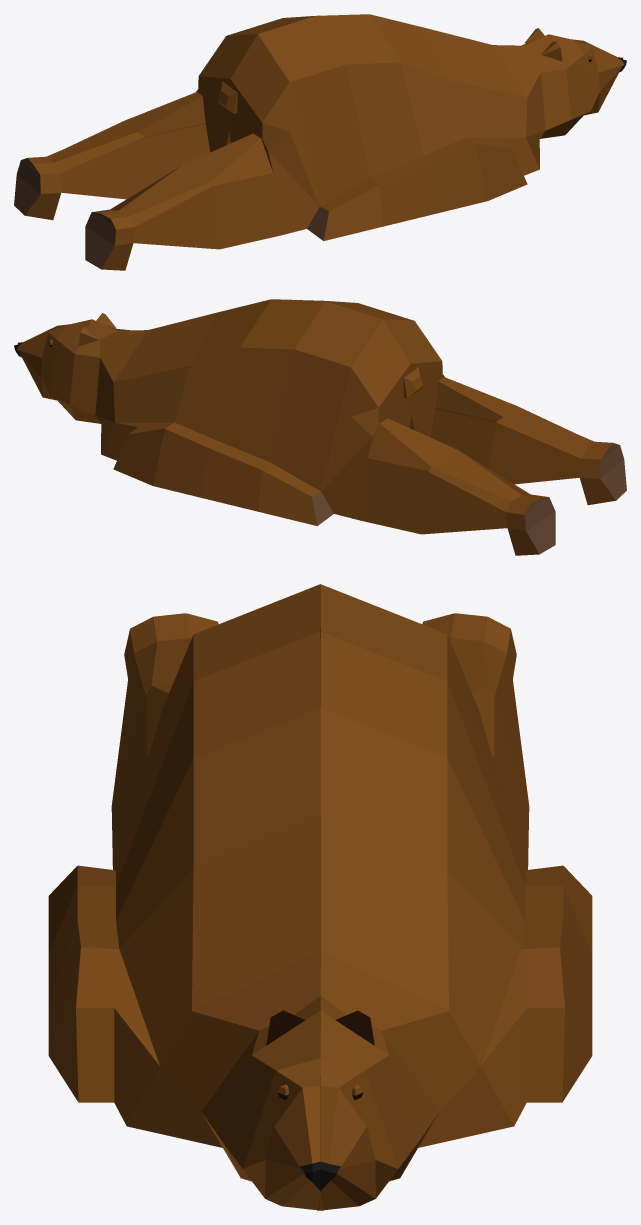
The model's file is bear.glb.
3 views of the same model, one above another, from view 1: azimuth 30°, elevation 25°; view 2: azimuth 150°, elevation 25°; view 3: azimuth 270°, elevation 25° (orthographic). The views are drawn at different scales.
Visible parts, largest first — view 1: Cube; view 2: Cube; view 3: Cube.
Part boxes in pixels (left/top/right/bottom): Cube: left=14, top=14, right=626, bottom=270; Cube: left=14, top=299, right=626, bottom=555; Cube: left=48, top=584, right=592, bottom=1210.
Bounding box in the file's own units: 5.72 × 1.55 × 2.36.
